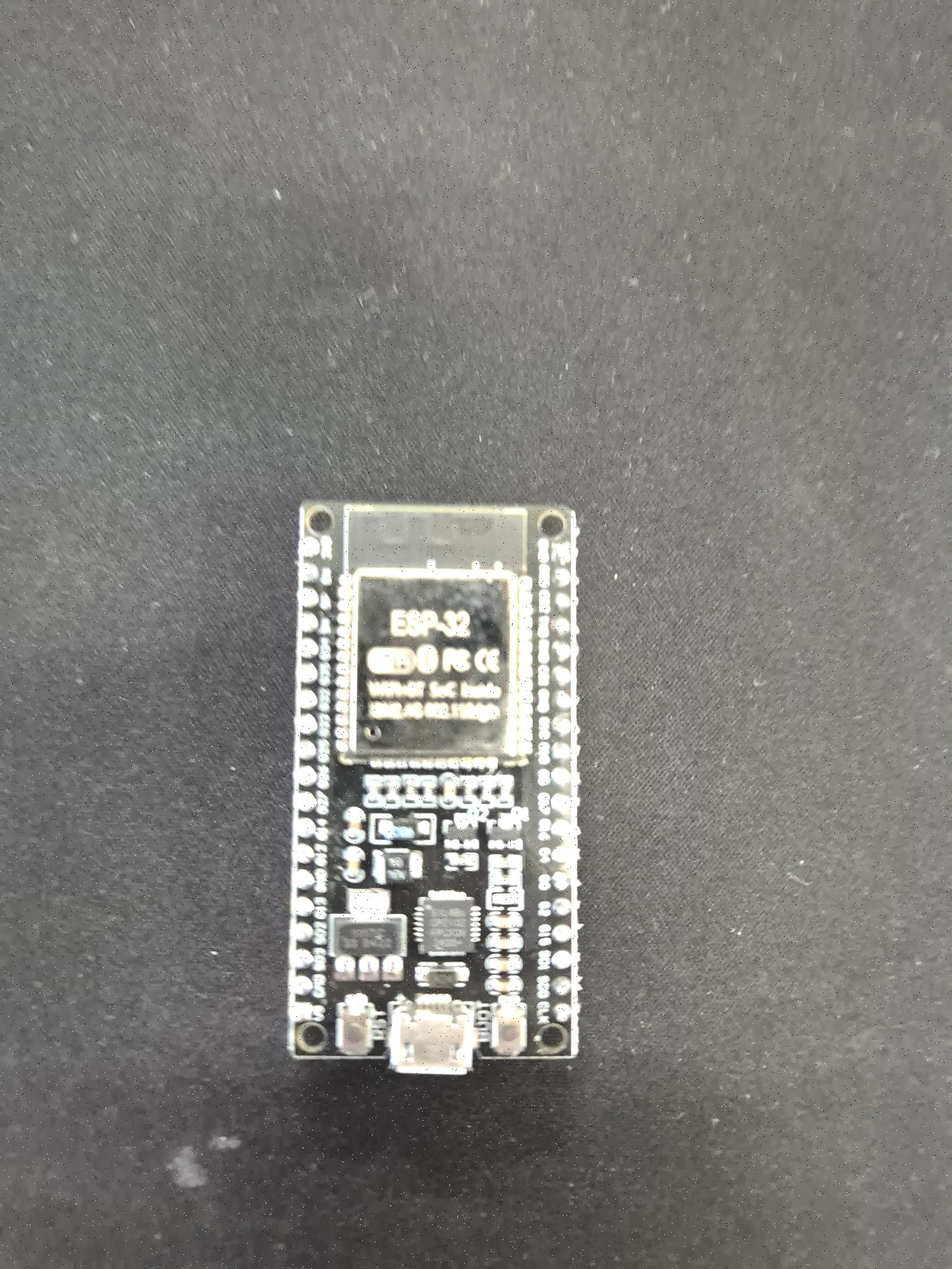esp32-dev: (295, 490, 582, 1068)
